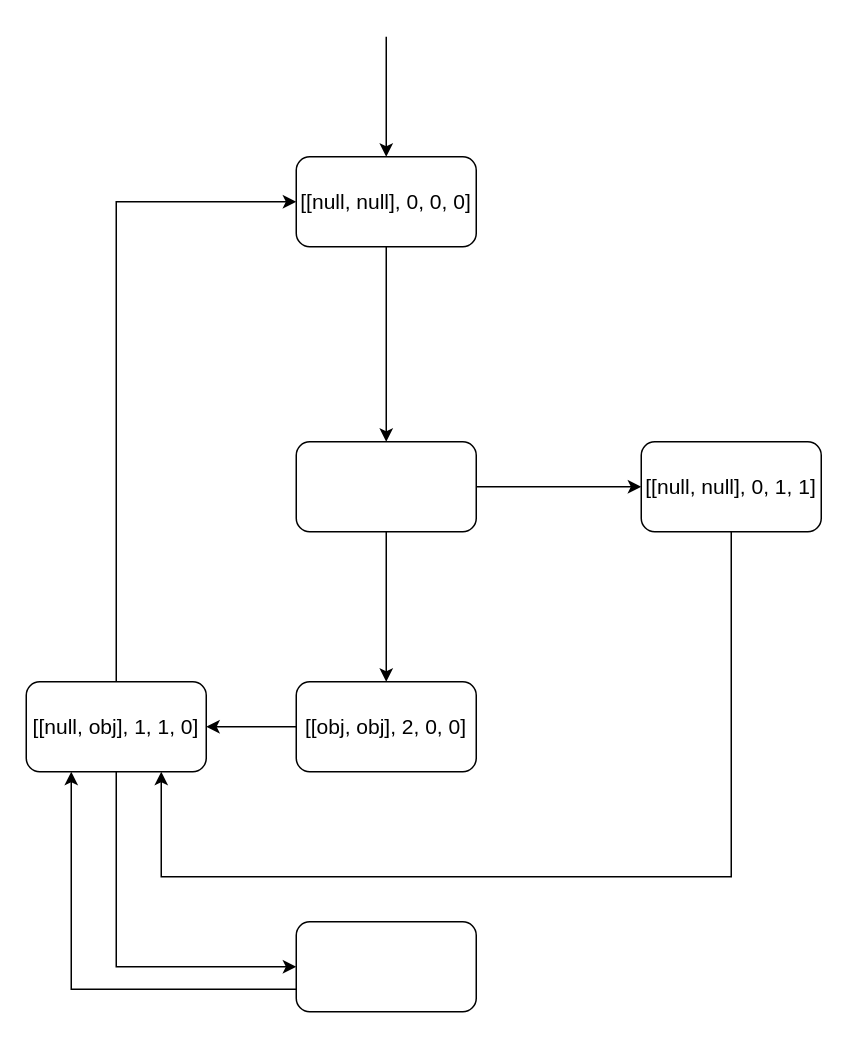
This 848x1038 diagram has some shape labels left out. Here are the shapes that lost their labels. From the top down, the box of each, then its label:
(295, 440, 476, 532): [[obj, null], 1, 0, 1]
(295, 920, 476, 1012): [[obj, obj], 2, 1, 1]
